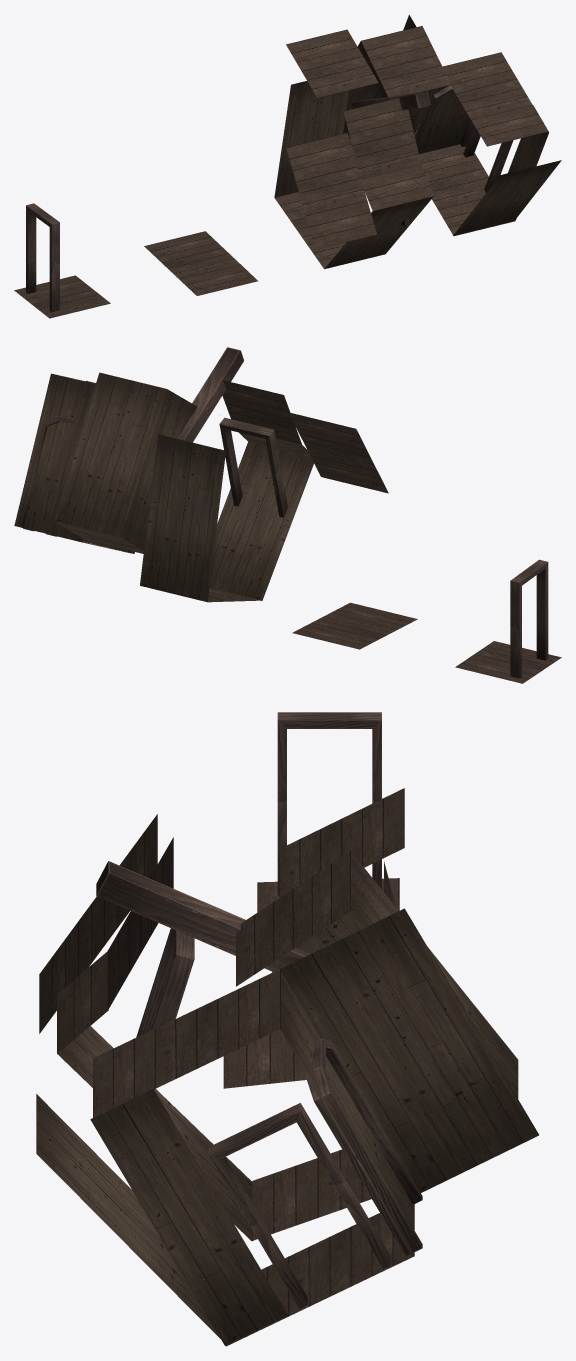
Rendered from Hallway_Stage-6.fbx.
The picture shows the model from 3 angles, top to bottom: view 1: azimuth 30°, elevation 25°; view 2: azimuth 150°, elevation 25°; view 3: azimuth 270°, elevation 25°; orthographic projection. The views are drawn at different scales.
Visible parts, largest first — view 1: Floor_T_1_5x1_5__4__1, Floor_T_1_5x1_5__3__1, Floor_T_1_5x1_5_1, Floor_T_1_5x1_5__5__1, Wall_W_3x1_5, Floor_T_1_5x1_5__2__1, Floor_T_1_5x1_5__2_, Wall_W_3x1_5__7_, Floor_T_1_5x1_5__4_, Wall_W_3x1_5__4_, Floor_T_1_5x0_75, Doorframe_3x1_5__1_ (+14 smaller); view 2: Wall_W_3x1_5__1_, Wall_W_3x1_5, Wall_W_3x1_5__4_, Wall_W_3x1_5__2_, Wall_W_3x1_5__3_, Doorframe_3x1_5__1_, Floor_T_1_5x1_5__3__1, Floor_T_1_5x1_5__4__1, Doorframe_3x1_5__2_, Floor_T_1_5x1_5__4_, Floor_T_1_5x1_5__5_, Pillar_Simple (+6 smaller); view 3: Wall_W_3x1_5__5_, Wall_W_3x0_75_Single_Faced__1_, Wall_W_3x1_5__7_, Floor_T_1_5x1_5__2__1, Floor_T_1_5x1_5_1, Archway_3x1_5_Small, Doorframe_3x1_5__3_, Floor_T_1_5x1_5__5__1, Pillar_Simple, Floor_T_1_5x1_5__2_, Wall_W_3x1_5__2_, Wall_W_3x1_5__4_ (+13 smaller).
Part boxes in pixels (x1=…): Floor_T_1_5x1_5__4__1: x1=286, y1=132, x2=367, y2=215; Floor_T_1_5x1_5__3__1: x1=343, y1=97, x2=421, y2=179; Floor_T_1_5x1_5_1: x1=361, y1=26, x2=450, y2=96; Floor_T_1_5x1_5__5__1: x1=286, y1=29, x2=378, y2=97; Wall_W_3x1_5: x1=274, y1=81, x2=349, y2=197; Floor_T_1_5x1_5__2__1: x1=443, y1=52, x2=532, y2=119; Floor_T_1_5x1_5__2_: x1=419, y1=144, x2=488, y2=209; Wall_W_3x1_5__7_: x1=453, y1=160, x2=561, y2=235; Floor_T_1_5x1_5__4_: x1=144, y1=231, x2=240, y2=279; Wall_W_3x1_5__4_: x1=324, y1=196, x2=433, y2=269; Floor_T_1_5x0_75: x1=306, y1=201, x2=376, y2=249; Doorframe_3x1_5__1_: x1=26, y1=203, x2=59, y2=312; Wall_W_3x1_5__1_: x1=53, y1=372, x2=167, y2=537; Wall_W_3x1_5: x1=140, y1=434, x2=225, y2=602; Wall_W_3x1_5__4_: x1=209, y1=442, x2=313, y2=600; Wall_W_3x1_5__2_: x1=14, y1=373, x2=84, y2=542; Wall_W_3x1_5__3_: x1=121, y1=389, x2=197, y2=550; Doorframe_3x1_5__1_: x1=510, y1=559, x2=548, y2=678; Floor_T_1_5x1_5__3__1: x1=222, y1=380, x2=301, y2=444; Floor_T_1_5x1_5__4__1: x1=288, y1=412, x2=377, y2=471; Doorframe_3x1_5__2_: x1=219, y1=417, x2=287, y2=517; Floor_T_1_5x1_5__4_: x1=292, y1=613, x2=397, y2=649; Floor_T_1_5x1_5__5_: x1=455, y1=641, x2=561, y2=683; Pillar_Simple: x1=177, y1=347, x2=243, y2=442; Wall_W_3x1_5__5_: x1=281, y1=908, x2=538, y2=1192; Wall_W_3x0_75_Single_Faced__1_: x1=90, y1=1088, x2=288, y2=1345; Wall_W_3x1_5__7_: x1=36, y1=1094, x2=220, y2=1338; Floor_T_1_5x1_5__2__1: x1=155, y1=968, x2=280, y2=1088; Floor_T_1_5x1_5_1: x1=236, y1=851, x2=350, y2=986; Archway_3x1_5_Small: x1=304, y1=1038, x2=422, y2=1256; Doorframe_3x1_5__3_: x1=208, y1=1103, x2=391, y2=1308; Floor_T_1_5x1_5__5__1: x1=279, y1=788, x2=404, y2=897; Pillar_Simple: x1=96, y1=861, x2=310, y2=971; Floor_T_1_5x1_5__2_: x1=288, y1=1204, x2=414, y2=1316; Wall_W_3x1_5__2_: x1=280, y1=971, x2=412, y2=1256; Wall_W_3x1_5__4_: x1=58, y1=1026, x2=252, y2=1241.
Size of the model in its own units: 1115 by 458 by 531.
6 materials, 6 textured.
